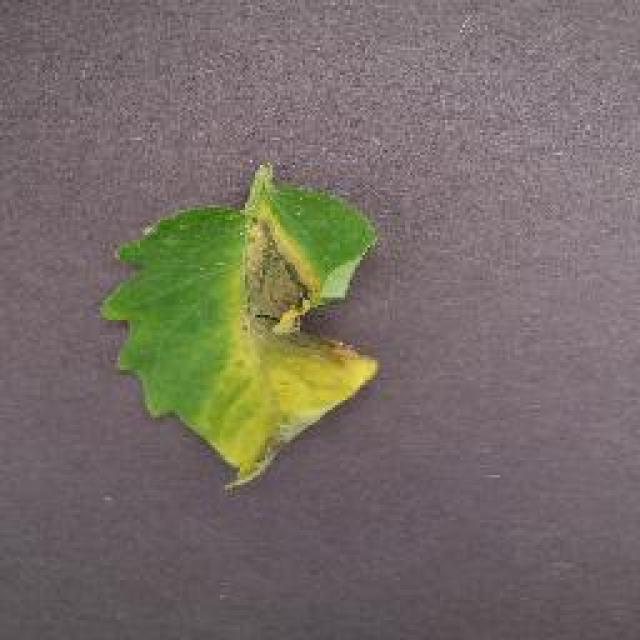Tomato late blight leaf: (96, 190, 386, 487)
